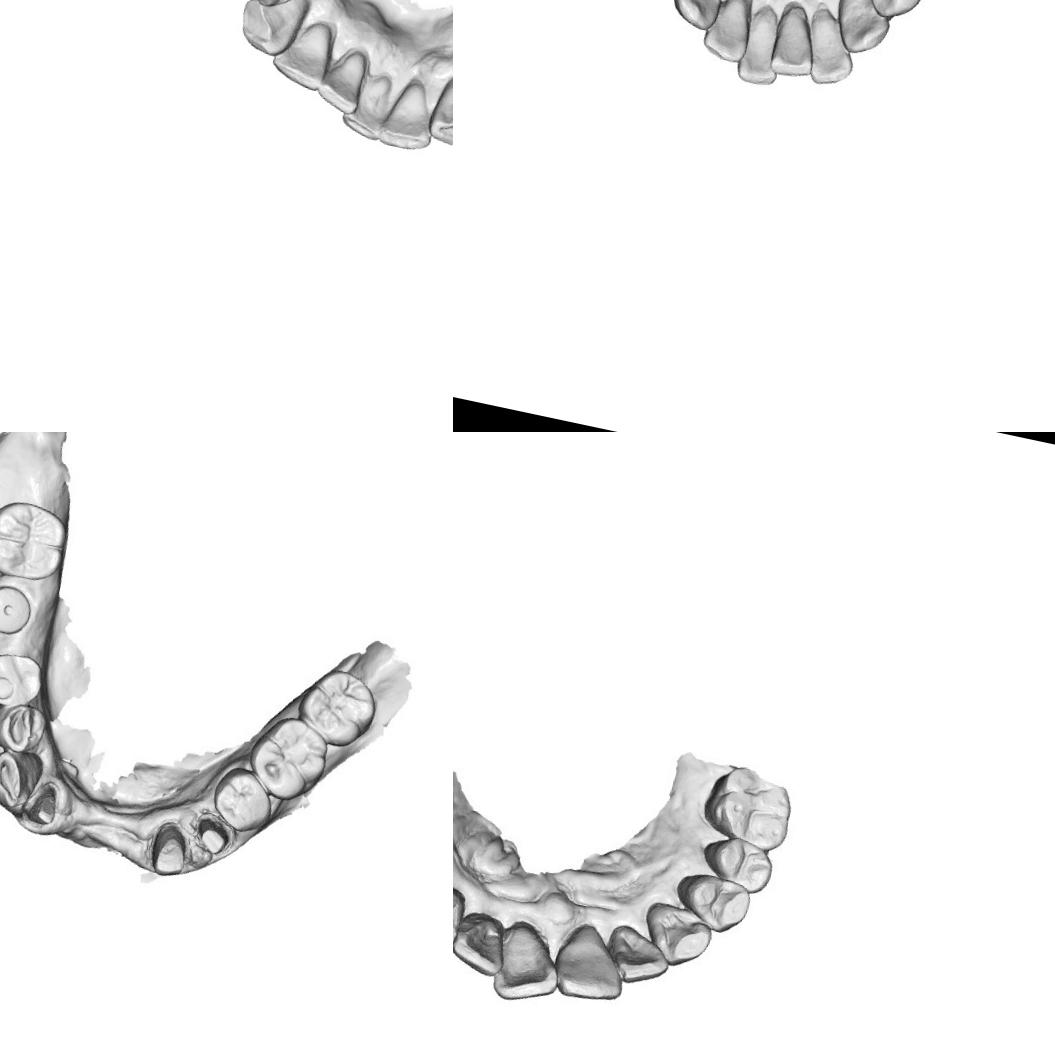canine: (632, 898, 718, 975), (232, 0, 308, 61), (827, 0, 897, 60), (0, 744, 37, 811), (425, 66, 453, 153), (664, 0, 730, 35), (453, 879, 470, 956)
crown: (148, 818, 195, 878), (192, 810, 240, 863), (23, 779, 68, 831)
implant: (0, 580, 39, 641)
incisor: (490, 916, 567, 1011), (553, 922, 632, 1004), (266, 18, 341, 97), (797, 6, 864, 92), (374, 72, 442, 156), (732, 3, 791, 89), (765, 2, 825, 82), (312, 42, 373, 118), (609, 924, 674, 988), (338, 72, 394, 145), (697, 0, 757, 67), (453, 908, 508, 973)
molar: (707, 761, 802, 857), (244, 712, 334, 803), (0, 494, 73, 588), (298, 666, 378, 747)
premolar: (666, 865, 758, 939), (693, 829, 777, 898), (213, 768, 278, 840), (0, 694, 51, 759), (0, 645, 46, 710), (860, 0, 930, 27)
